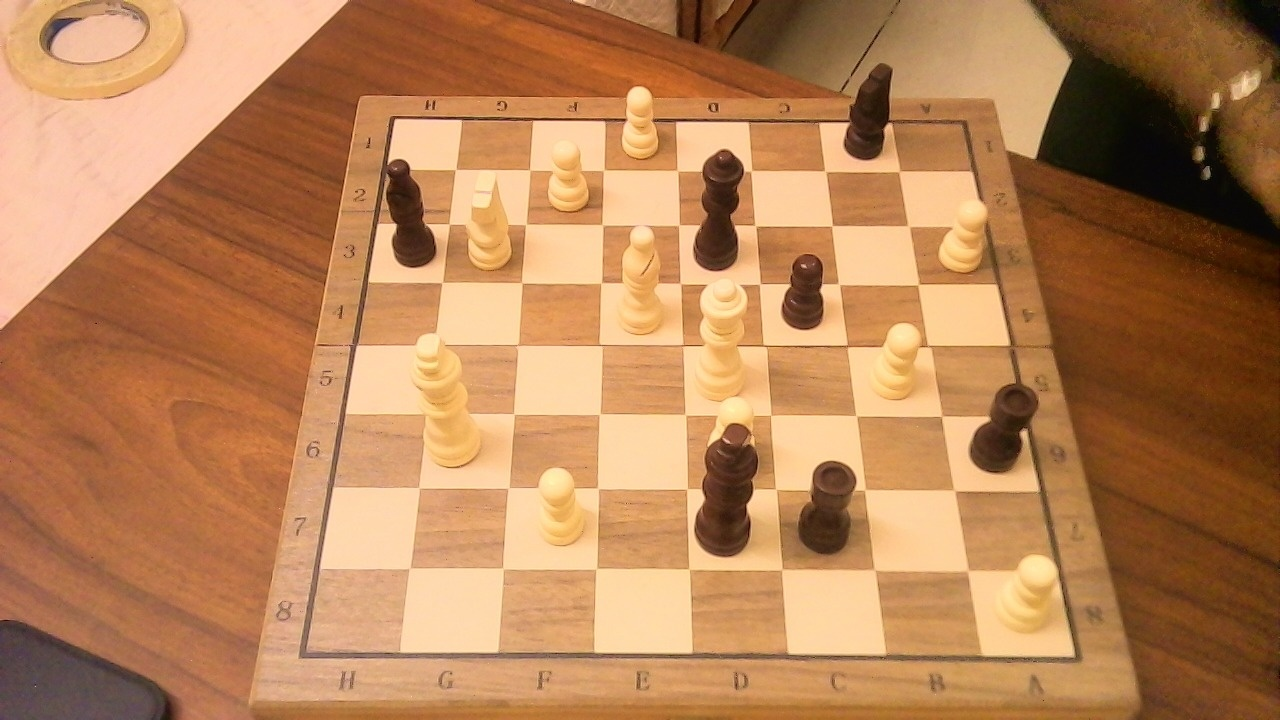B: (608, 214, 673, 339)
K: (407, 322, 492, 472)
N: (454, 162, 520, 273)
P: (989, 544, 1067, 637), (862, 313, 930, 405), (523, 458, 589, 551), (696, 386, 762, 479), (932, 190, 995, 275), (538, 131, 595, 215), (613, 77, 665, 163)
Q: (689, 266, 759, 407)
b: (378, 147, 444, 272)
k: (691, 409, 773, 563)
n: (836, 50, 901, 165)
p: (775, 243, 836, 334)
q: (686, 136, 758, 275)
r: (963, 370, 1048, 478), (790, 447, 868, 558)
